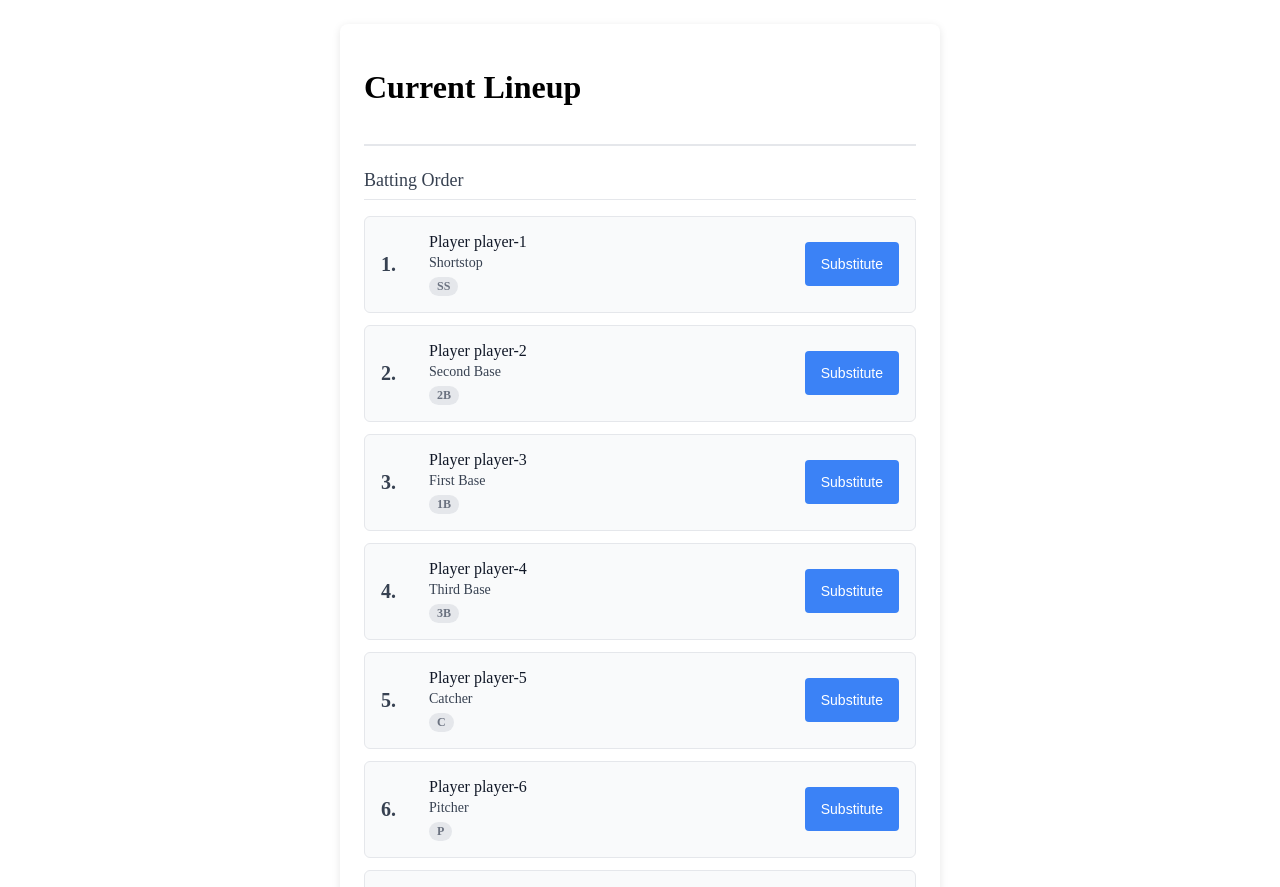
Scenario: LineupEditor Component - TDD Implementation › Substitution Interactions › should close substitution dialog when cancelled
Click the button "Substitute" in the row of "Shortstop": {"x": 852, "y": 264} [805,242,899,286]
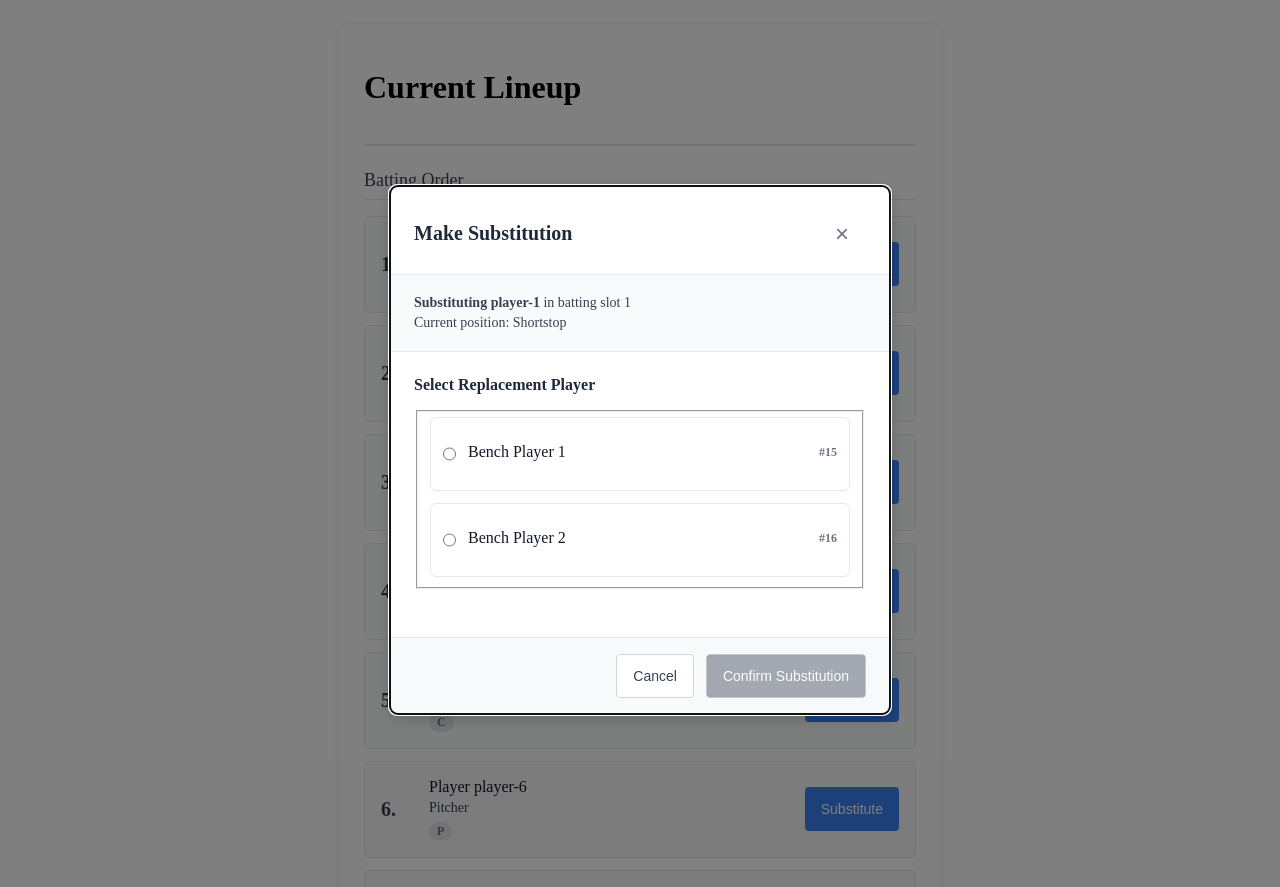
Now the dialog is shown, box [390,186,890,714]
Click the button "Cancel": {"x": 655, "y": 676} [616,654,694,698]
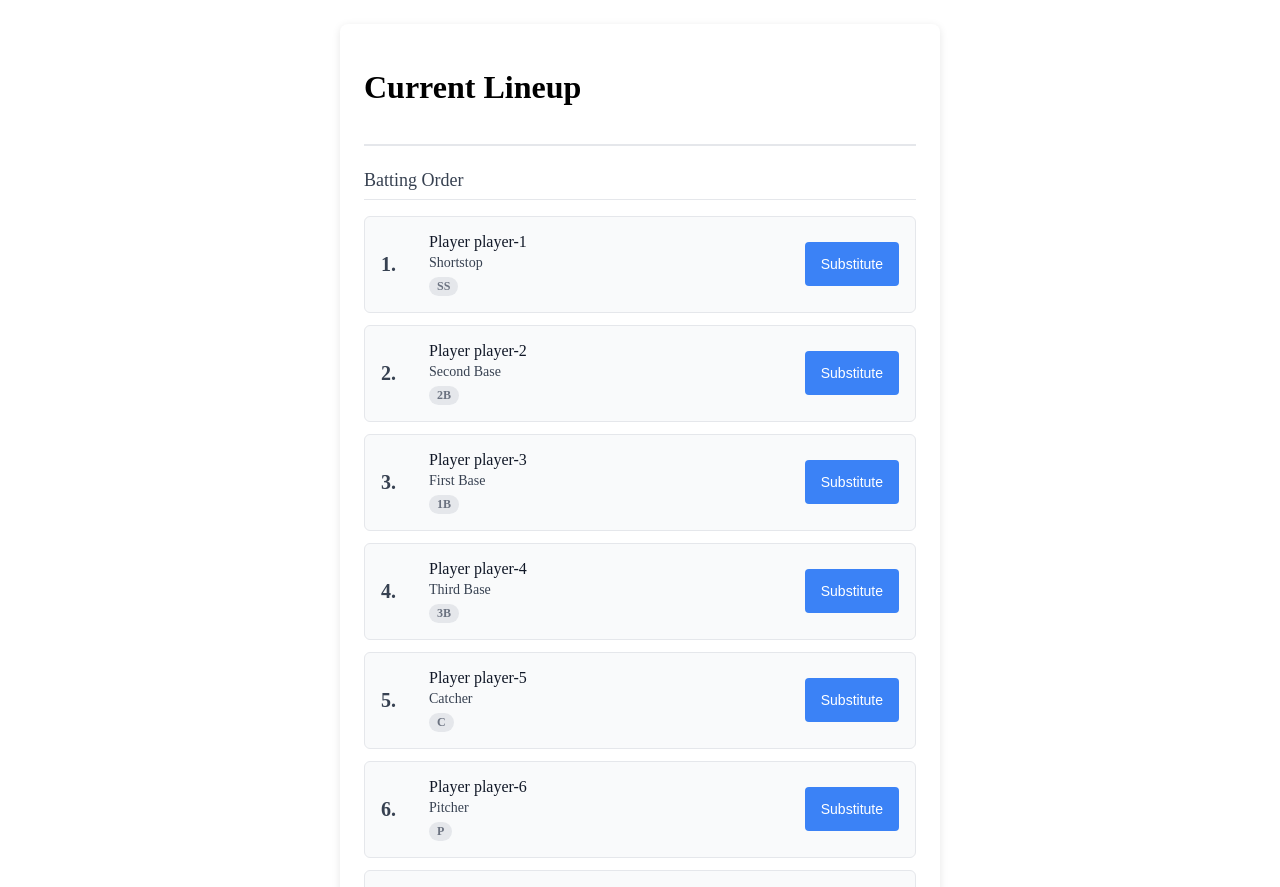
Now the dialog is gone
